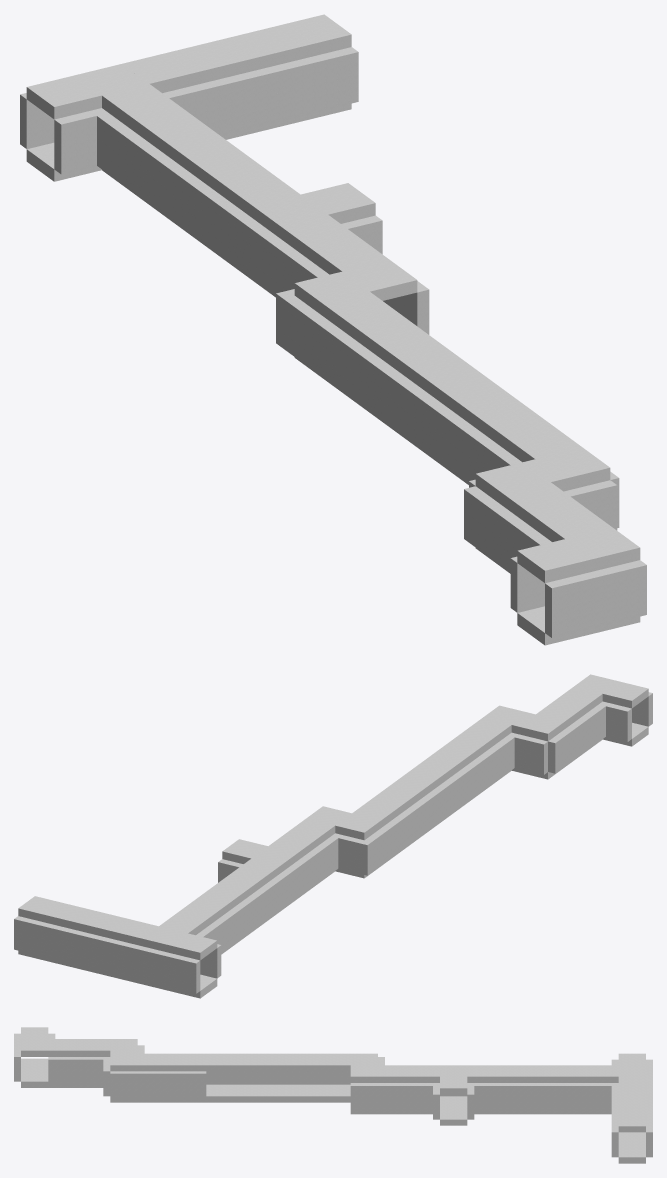
Rendered from HallwayBIG.obj.
3 renders of one model, top to bottom at view 1: azimuth 30°, elevation 25°; view 2: azimuth 150°, elevation 25°; view 3: azimuth 270°, elevation 25°, orthographic. The views are drawn at different scales.
Visible parts, largest first — view 1: Cube (7), Cube (3), Cube (22), Cube (27), Cube (32), Cube (9), Cube (1), Cube (16), Cube (20), Cube (28), Cube (14), Cube (13) (+7 smaller); view 2: Cube (7), Cube (31), Cube (3), Cube (22), Cube (27), Cube (9), Cube (1), Cube (20), Cube (18), Cube (17), Cube (14), Cube (13) (+5 smaller); view 3: Cube (7), Cube (3), Cube (30), Cube (2), Cube (24), Cube (25), Cube (22), Cube (1), Cube (9), Cube (21), Cube (6), Cube (8) (+12 smaller).
Part boxes in pixels (x1,y1,x2,y2): Cube (7): [75, 64, 417, 300]; Cube (3): [294, 271, 610, 491]; Cube (22): [276, 290, 521, 484]; Cube (27): [97, 113, 328, 296]; Cube (32): [162, 47, 358, 135]; Cube (9): [122, 14, 351, 93]; Cube (1): [475, 462, 640, 571]; Cube (16): [545, 560, 646, 637]; Cube (20): [464, 486, 551, 572]; Cube (28): [54, 108, 108, 174]; Cube (14): [517, 539, 592, 583]; Cube (13): [26, 75, 101, 119]; Cube (7): [142, 806, 351, 953]; Cube (31): [14, 916, 200, 993]; Cube (3): [335, 705, 527, 840]; Cube (22): [360, 732, 518, 875]; Cube (27): [196, 836, 338, 953]; Cube (9): [18, 896, 158, 945]; Cube (1): [519, 674, 619, 741]; Cube (20): [548, 704, 605, 773]; Cube (18): [514, 734, 547, 774]; Cube (17): [599, 701, 631, 741]; Cube (14): [602, 681, 648, 708]; Cube (13): [171, 933, 217, 960]; Cube (7): [350, 1065, 645, 1082]; Cube (3): [110, 1053, 377, 1071]; Cube (30): [474, 1083, 618, 1110]; Cube (2): [110, 1084, 350, 1102]; Cube (24): [110, 1071, 206, 1098]; Cube (25): [350, 1083, 432, 1110]; Cube (22): [206, 1057, 384, 1084]; Cube (1): [21, 1039, 137, 1056]; Cube (9): [618, 1076, 645, 1132]; Cube (21): [48, 1057, 110, 1084]; Cube (6): [350, 1096, 611, 1114]; Cube (8): [618, 1132, 645, 1163].
Size of the model in its own units: 34 by 6 by 93.
1 material, 1 textured.
